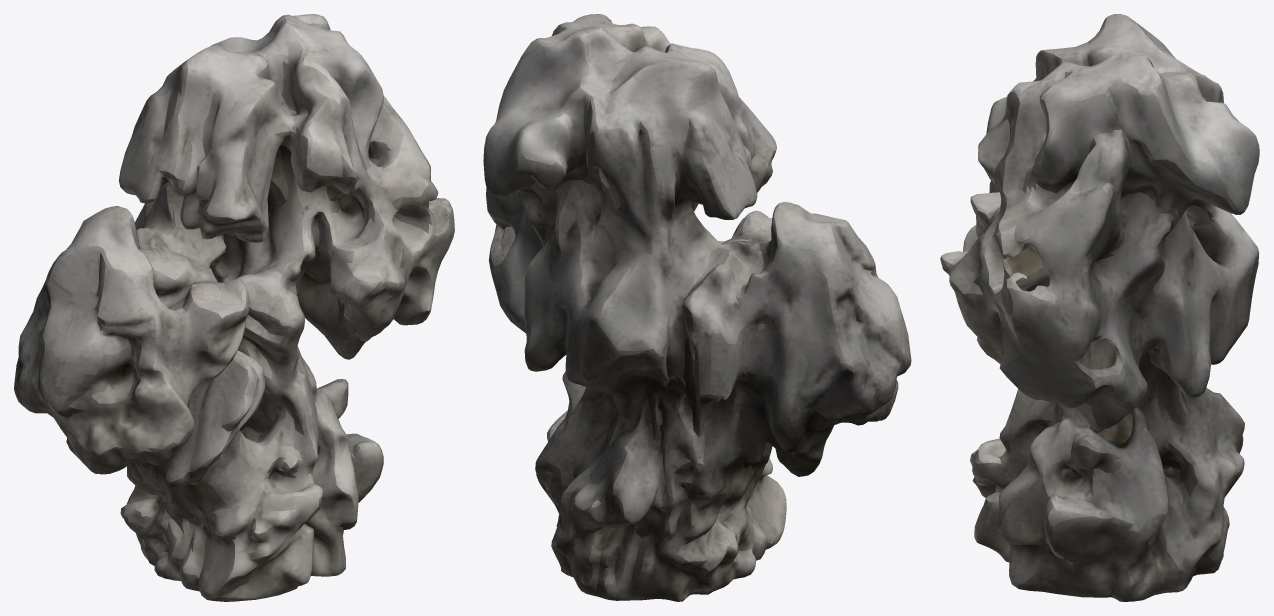
The model's file is taihu-rock.glb.
3 views of the same model, side by side, from view 1: azimuth 30°, elevation 25°; view 2: azimuth 150°, elevation 25°; view 3: azimuth 270°, elevation 25° (orthographic). The views are drawn at different scales.
Parts seen in each view (by area): view 1: geometry_0; view 2: geometry_0; view 3: geometry_0.
Boxes of the visible parts, x1,y1,x2,y2 form: geometry_0: [14, 14, 454, 601]; geometry_0: [483, 14, 911, 601]; geometry_0: [940, 14, 1259, 601].
Bounding box in the file's own units: 0.4912 × 0.6 × 0.3244.
1 material, 1 textured.
